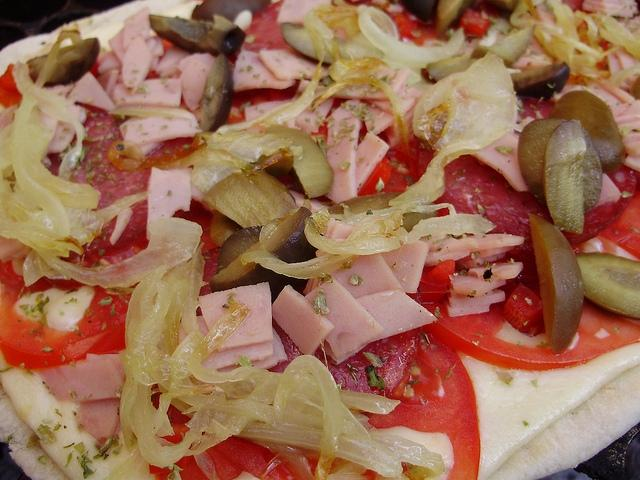onion: (388, 53, 516, 206), (238, 410, 444, 480), (38, 217, 204, 289), (12, 94, 70, 236), (22, 104, 100, 208), (356, 4, 466, 70), (188, 301, 268, 384), (157, 259, 197, 418), (202, 172, 298, 228), (121, 282, 172, 386), (267, 122, 334, 198), (34, 354, 125, 402), (395, 214, 497, 244), (185, 408, 257, 434), (335, 31, 385, 60), (448, 275, 506, 296), (549, 2, 579, 42), (556, 37, 602, 61), (468, 262, 522, 281), (10, 180, 42, 212), (67, 214, 95, 247), (293, 373, 319, 399), (124, 30, 138, 54), (315, 84, 331, 98)
tomato: (207, 314, 480, 480), (421, 298, 640, 370), (228, 1, 318, 68), (76, 284, 132, 354), (227, 80, 300, 123), (598, 189, 640, 259), (458, 4, 500, 41), (358, 156, 392, 197), (0, 64, 23, 108), (392, 12, 418, 42), (380, 167, 410, 193)
